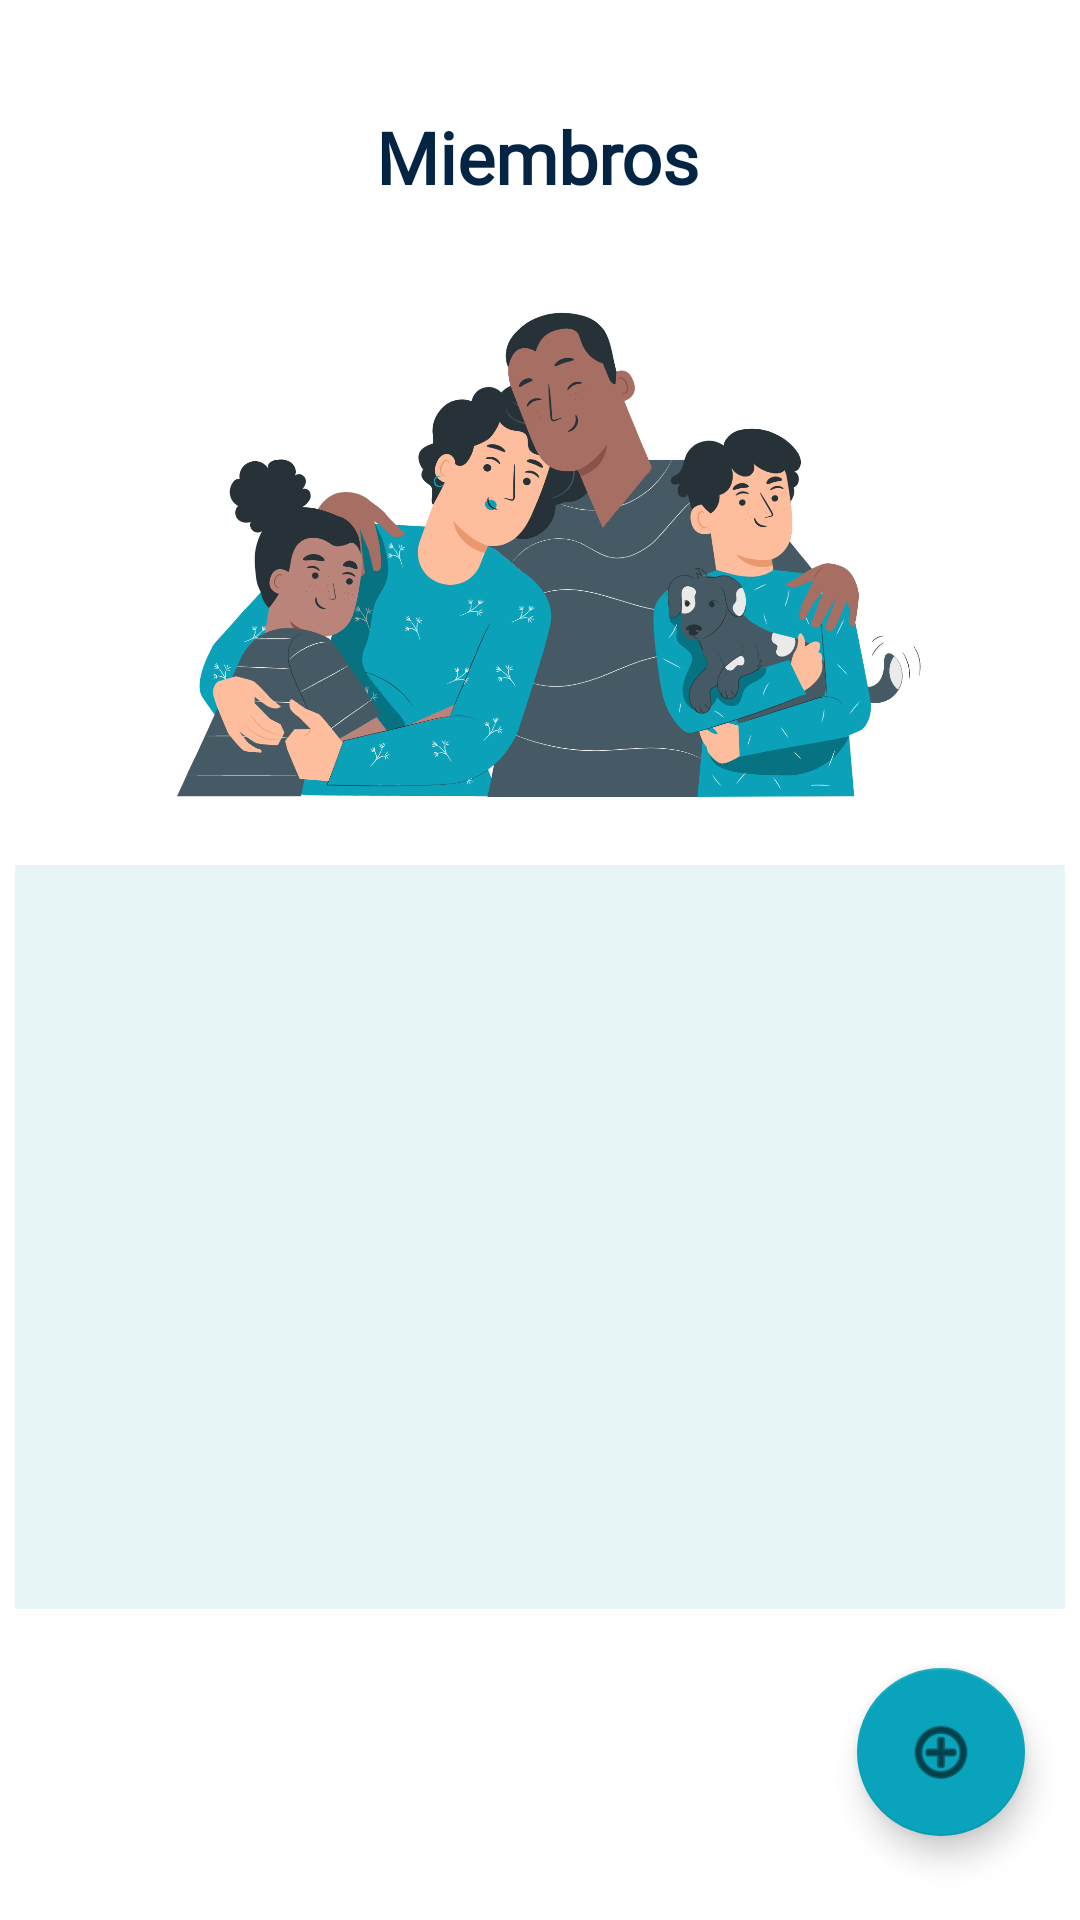

Locate icon controls on the screen. Image size 1080*1920, boxes as {"left": x1, "top": y1, "right": x2, "bottom": y2}.
add: {"left": 857, "top": 1668, "right": 1025, "bottom": 1836}
